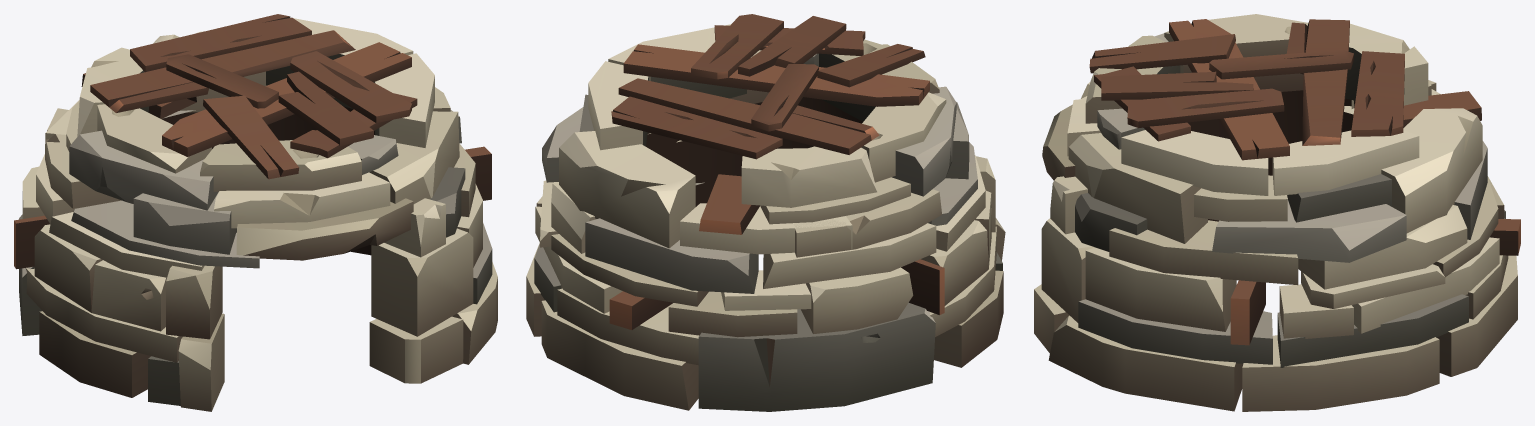
The model's file is Hut_1E.fbx.
3 views of the same model, side by side, from view 1: azimuth 30°, elevation 25°; view 2: azimuth 150°, elevation 25°; view 3: azimuth 270°, elevation 25° (orthographic). The views are drawn at different scales.
Parts seen in each view (by area): view 1: Hut_1E; view 2: Hut_1E; view 3: Hut_1E.
Part boxes in pixels (box(x1,y1,x2,y2)): Hut_1E: box(14, 14, 497, 411); Hut_1E: box(526, 14, 1005, 411); Hut_1E: box(1034, 14, 1520, 411).
Bounding box in the file's own units: 6.04 × 3.22 × 5.88.
